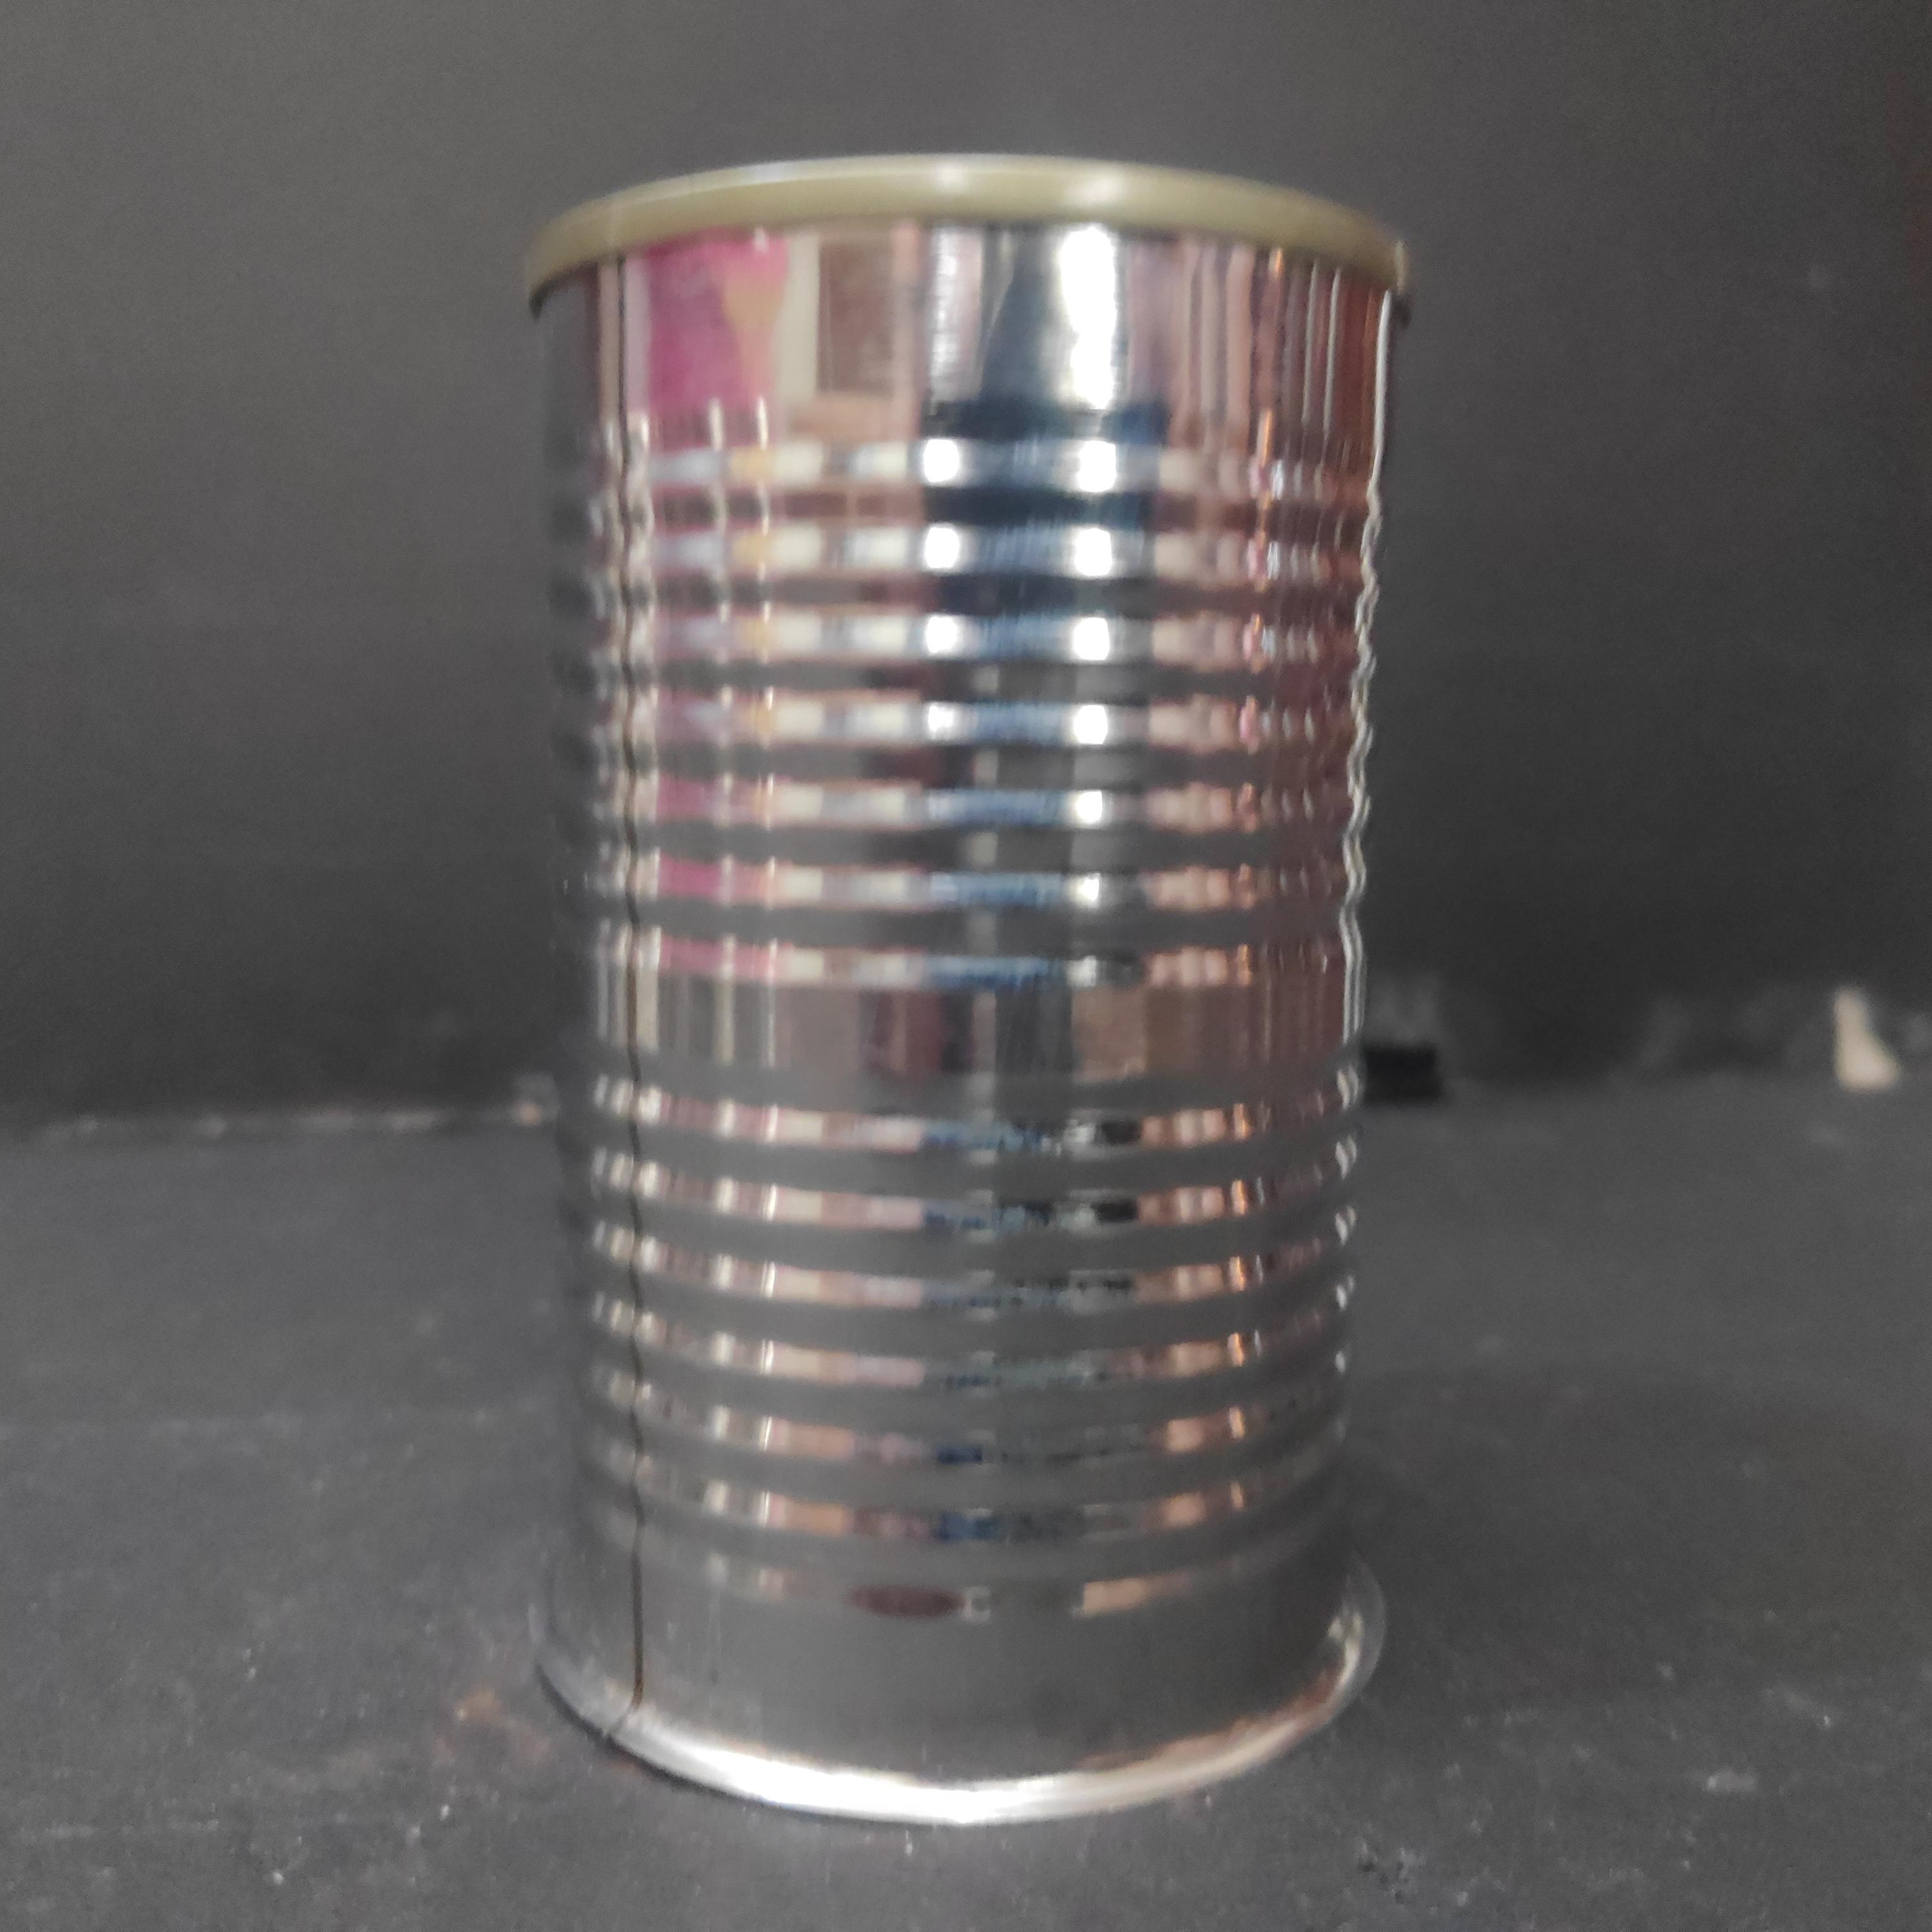No defect: (506, 131, 1415, 1845)
